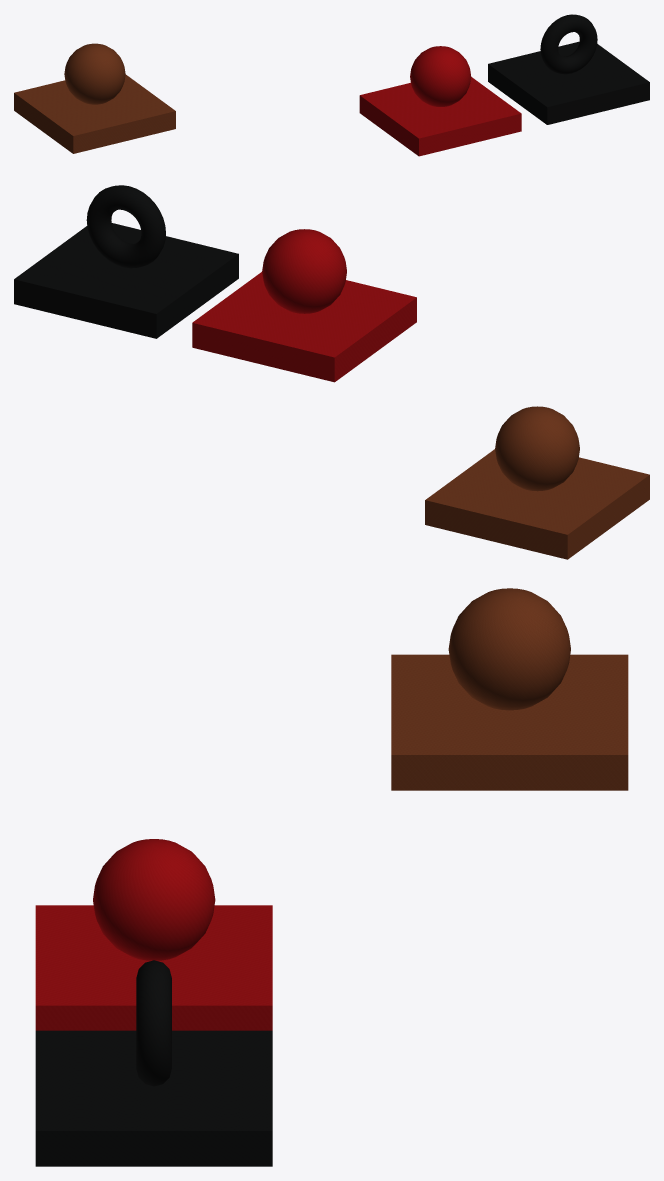
File: vehicle-material-study.glb
3 views of the same model, one above another, from view 1: azimuth 30°, elevation 25°; view 2: azimuth 150°, elevation 25°; view 3: azimuth 270°, elevation 25° (orthographic). The views are drawn at different scales.
Parts seen in each view (by area): view 1: vehicle-tire-rubber-coupon, vehicle-red-paint-coupon, vehicle-seat-leather-coupon, vehicle-seat-leather-curvature, vehicle-red-paint-curvature, vehicle-tire-rubber-curvature; view 2: vehicle-tire-rubber-coupon, vehicle-red-paint-coupon, vehicle-seat-leather-coupon, vehicle-seat-leather-curvature, vehicle-red-paint-curvature, vehicle-tire-rubber-curvature; view 3: vehicle-tire-rubber-coupon, vehicle-seat-leather-coupon, vehicle-red-paint-coupon, vehicle-red-paint-curvature, vehicle-seat-leather-curvature, vehicle-tire-rubber-curvature.
Part boxes in pixels (left/top/right/bottom): vehicle-tire-rubber-coupon: left=488, top=41, right=649, bottom=124; vehicle-red-paint-coupon: left=359, top=77, right=521, bottom=156; vehicle-seat-leather-coupon: left=14, top=74, right=175, bottom=153; vehicle-seat-leather-curvature: left=64, top=43, right=125, bottom=104; vehicle-red-paint-curvature: left=410, top=46, right=471, bottom=106; vehicle-tire-rubber-curvature: left=540, top=14, right=597, bottom=74; vehicle-tire-rubber-coupon: left=14, top=223, right=238, bottom=338; vehicle-red-paint-coupon: left=192, top=272, right=416, bottom=382; vehicle-seat-leather-coupon: left=425, top=449, right=649, bottom=559; vehicle-seat-leather-curvature: left=495, top=406, right=579, bottom=491; vehicle-red-paint-curvature: left=262, top=229, right=346, bottom=313; vehicle-tire-rubber-curvature: left=86, top=185, right=165, bottom=268; vehicle-tire-rubber-coupon: left=35, top=1030, right=272, bottom=1166; vehicle-seat-leather-coupon: left=391, top=654, right=628, bottom=790; vehicle-red-paint-coupon: left=35, top=905, right=272, bottom=1030; vehicle-red-paint-curvature: left=93, top=839, right=215, bottom=960; vehicle-seat-leather-curvature: left=448, top=588, right=570, bottom=710; vehicle-tire-rubber-curvature: left=136, top=960, right=171, bottom=1086.
Bounding box in the file's own units: 5.7 × 0.84 × 3.
3 materials, 3 textured.
